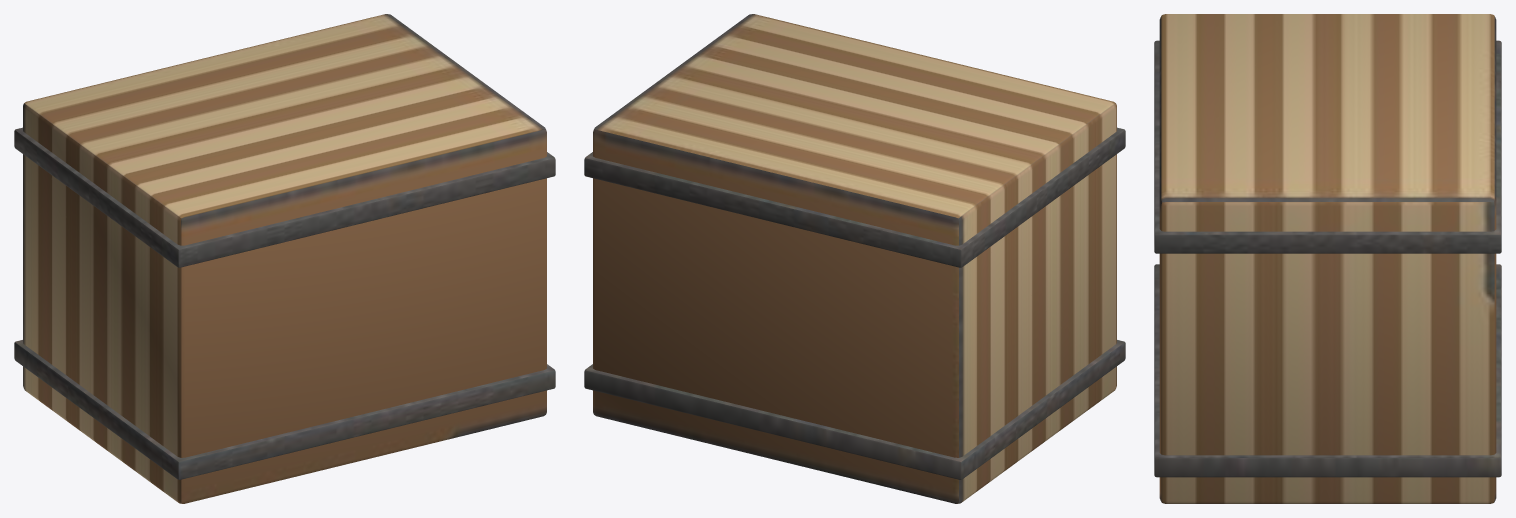
File: crate.glb
The picture shows the model from 3 angles, left to right: view 1: azimuth 30°, elevation 25°; view 2: azimuth 150°, elevation 25°; view 3: azimuth 270°, elevation 25°; orthographic projection. The views are drawn at different scales.
Parts seen in each view (by area): view 1: crate, band0.52, band0.08; view 2: crate, band0.52, band0.08; view 3: crate, band0.08, band0.52.
Part boxes in pixels (left/top/right/bottom): crate: left=23, top=14, right=546, bottom=503; band0.52: left=14, top=127, right=555, bottom=267; band0.08: left=14, top=340, right=555, bottom=479; crate: left=593, top=14, right=1116, bottom=503; band0.52: left=584, top=127, right=1125, bottom=267; band0.08: left=584, top=340, right=1125, bottom=479; crate: left=1159, top=14, right=1496, bottom=503; band0.08: left=1154, top=264, right=1501, bottom=477; band0.52: left=1154, top=40, right=1501, bottom=253.
Size of the model in its own units: 0.82 by 0.6 by 0.62.
1 material, 1 textured.
